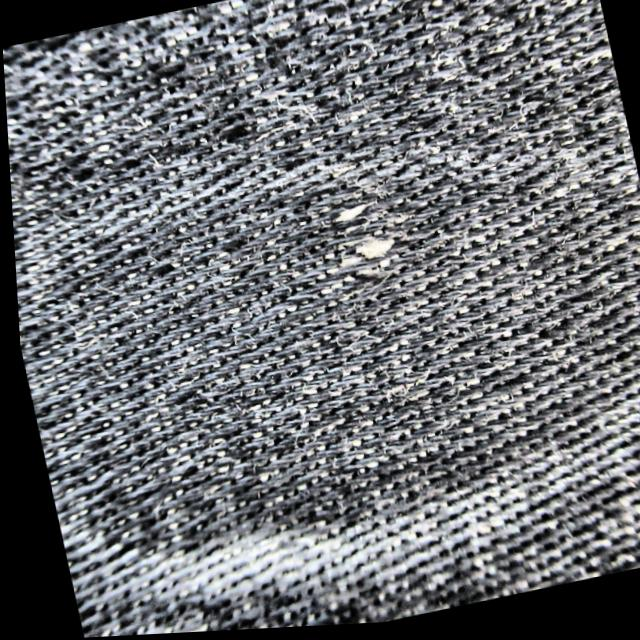Hole: (328, 196, 394, 283)
